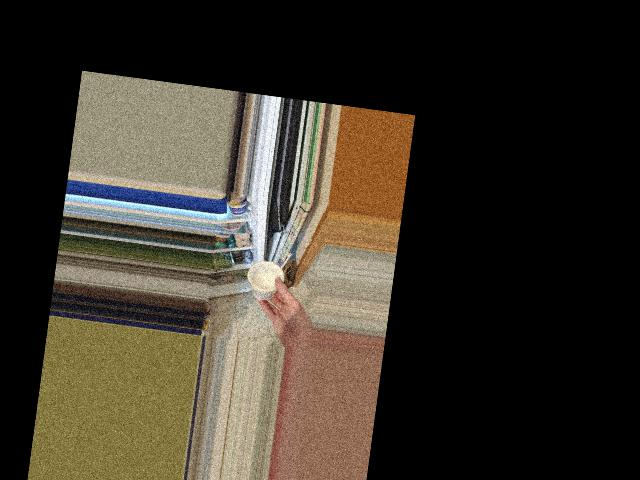cotage: (249, 255, 281, 303)
